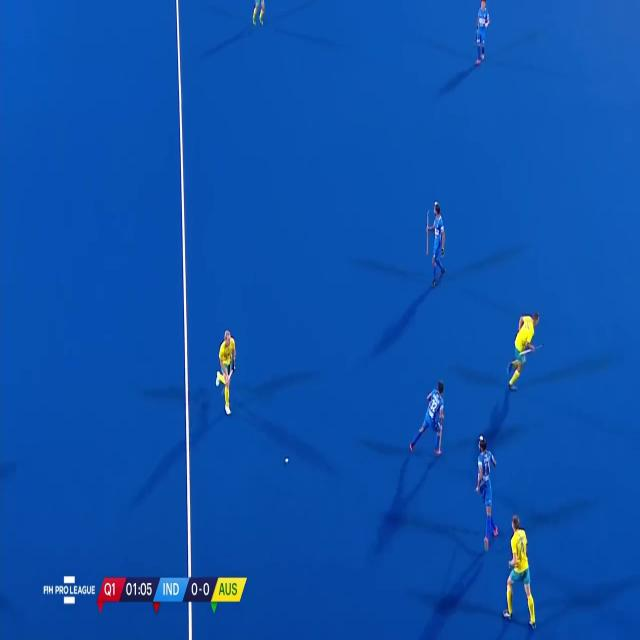ball: (281, 450, 295, 470)
